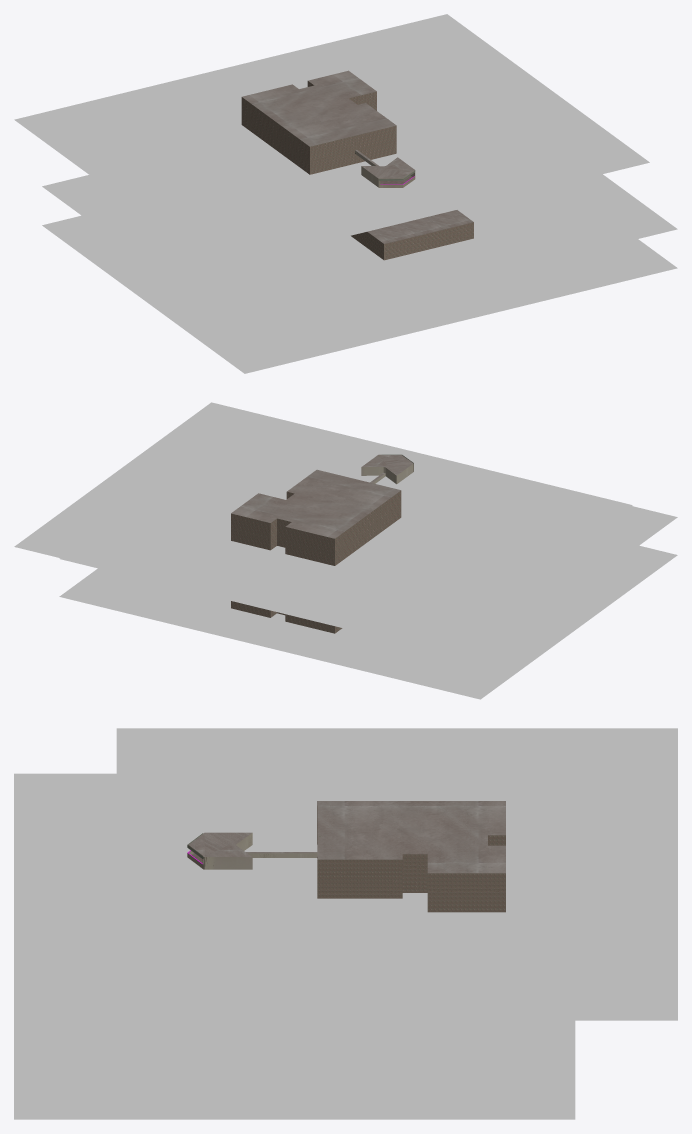
File: map_layout (1).fbx
3 views of the same model, one above another, from view 1: azimuth 30°, elevation 25°; view 2: azimuth 150°, elevation 25°; view 3: azimuth 270°, elevation 25° (orthographic). The views are drawn at different scales.
Visible parts, largest first — view 1: E4 IMG, 3 IMG, 1-2 IMG, ceiling, wallBig; view 2: E4 IMG, 1-2 IMG, 3 IMG, ceiling, wallBig, wall; view 3: E4 IMG, 3 IMG, 1-2 IMG, ceiling, wallBig, wall.
Part boxes in pixels (x1,y1,x2,y2): E4 IMG: (14,14,649,268); 3 IMG: (42,174,677,334); 1-2 IMG: (42,215,677,373); ceiling: (242,70,473,243); wallBig: (241,81,473,260); E4 IMG: (14,402,632,649); 1-2 IMG: (59,545,677,699); 3 IMG: (59,506,677,661); ceiling: (231,454,413,538); wallBig: (231,490,401,633); wall: (361,454,413,484); E4 IMG: (116,728,677,1020); 3 IMG: (14,773,575,1065); 1-2 IMG: (14,1066,575,1119); ceiling: (189,801,505,873); wallBig: (317,806,505,912); wall: (187,833,317,869).
Bounding box in the file's own units: 40907 × 9210 × 38438.
